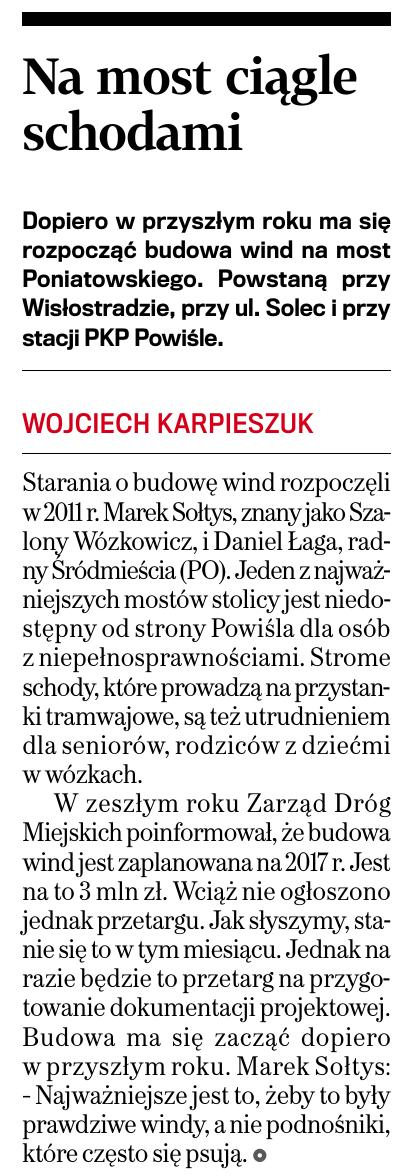author: (13, 395, 330, 447)
body: (10, 467, 407, 1172)
lead: (13, 202, 405, 358)
title: (17, 42, 375, 175)
